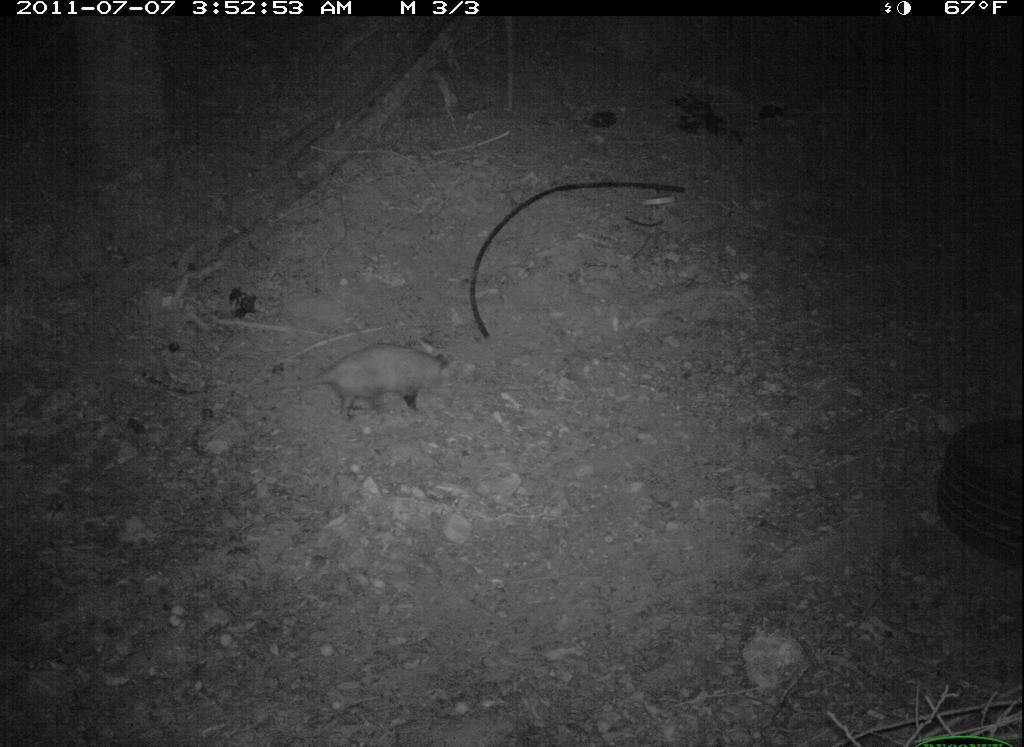opossum: (245, 329, 478, 428)
